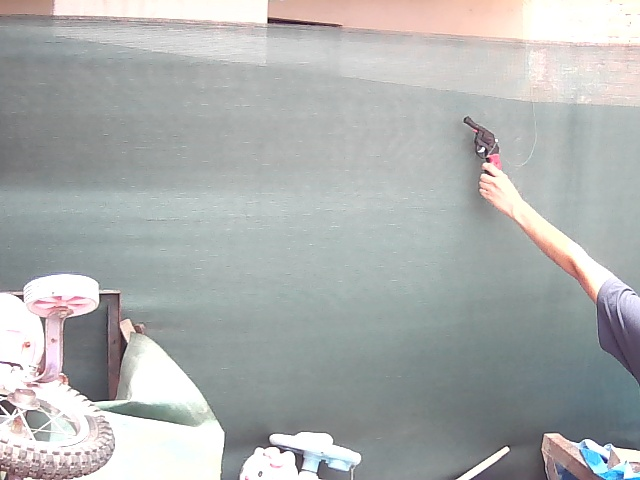pistola: (459, 110, 510, 168)
